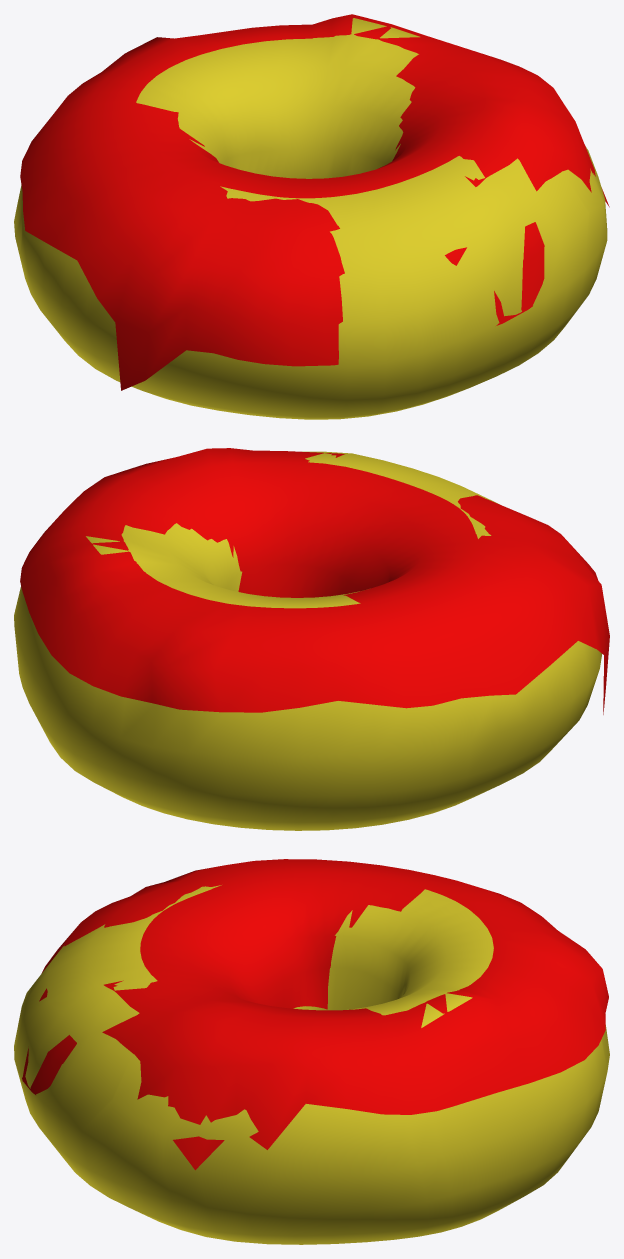
The model's file is GameTech Donut.glb.
3 views of the same model, one above another, from view 1: azimuth 30°, elevation 25°; view 2: azimuth 150°, elevation 25°; view 3: azimuth 270°, elevation 25° (orthographic). The views are drawn at different scales.
Parts seen in each view (by area): view 1: Donut, Torus.001; view 2: Torus.001, Donut; view 3: Donut, Torus.001.
Part boxes in pixels (box(x1,y1,x2,y2)): Donut: box(14, 18, 607, 419); Torus.001: box(20, 14, 609, 390); Torus.001: box(20, 448, 609, 714); Donut: box(14, 451, 601, 830); Donut: box(14, 885, 609, 1244); Torus.001: box(22, 859, 608, 1170).
Size of what is drawn, in the model's own units: 0.1016 by 0.0421 by 0.1014.
